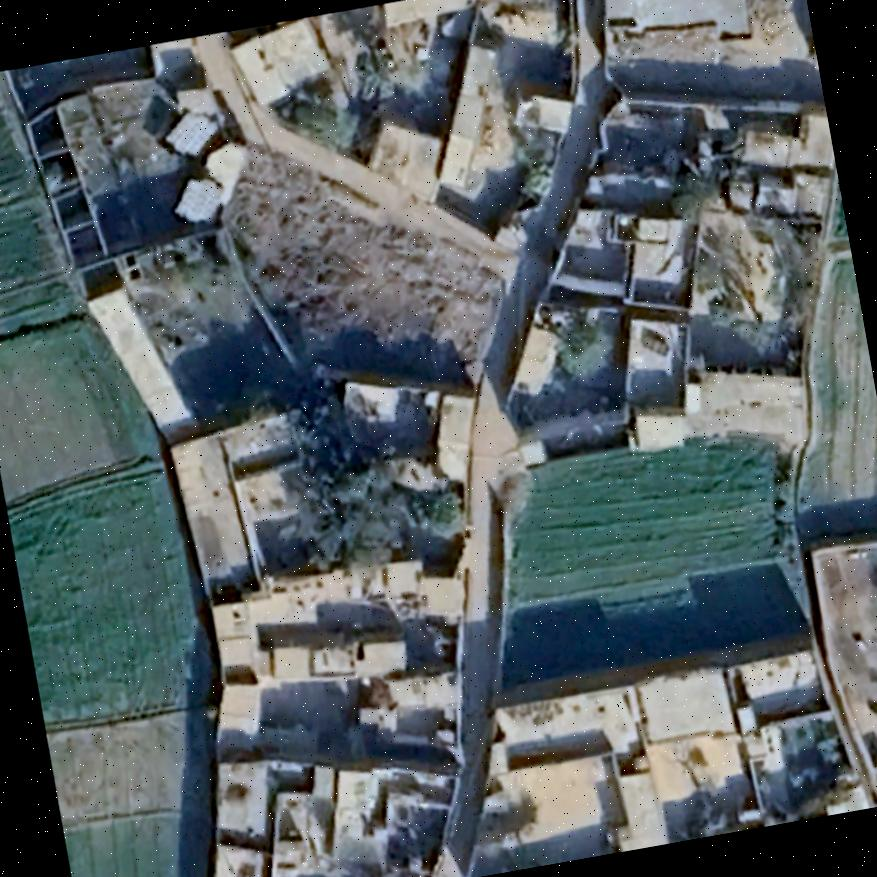Solarpanel: (171, 171, 228, 223), (166, 107, 220, 155), (634, 328, 668, 359)
